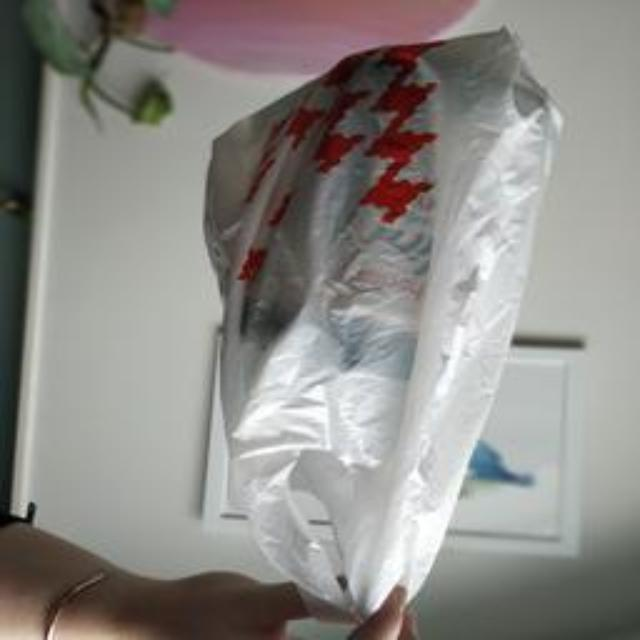Bolsa-de-nilon: (200, 28, 580, 627)
